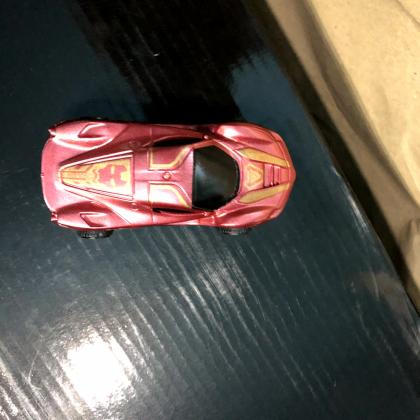Car: (38, 116, 298, 238)
